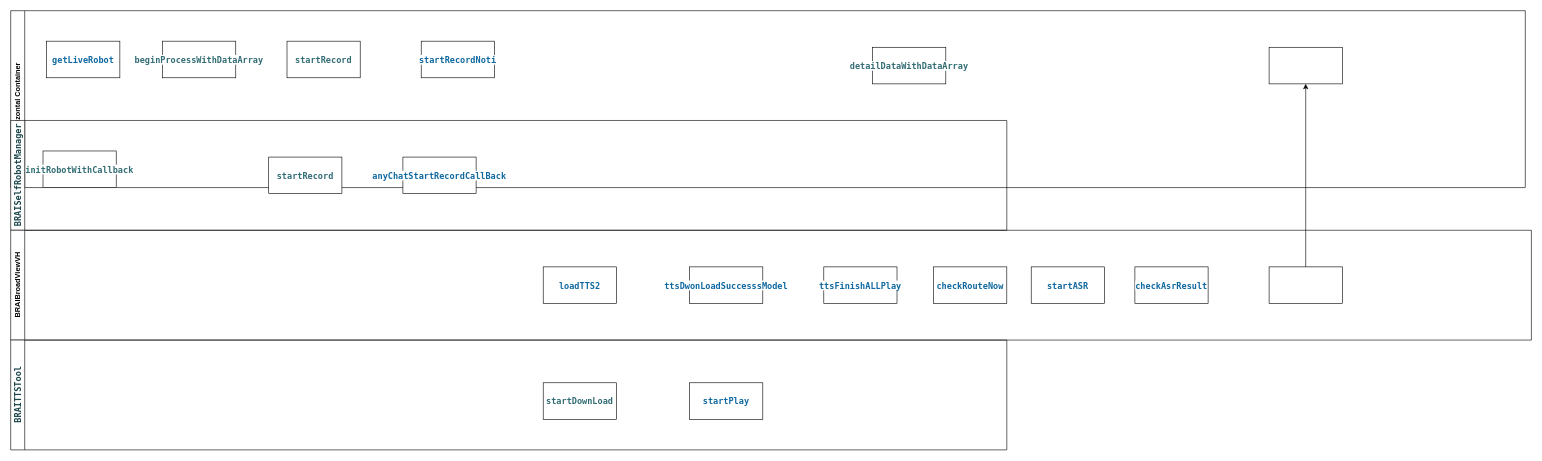
Some shapes in this 1542 by 461 pixel diagram are drawn without their labels. The centre of each missing label's shape, as x and y in pixels:
"AIBroadViewFinishWithResult" goes at point 1305,65.
"handleFinishAndNextResult" goes at point 1305,284.
